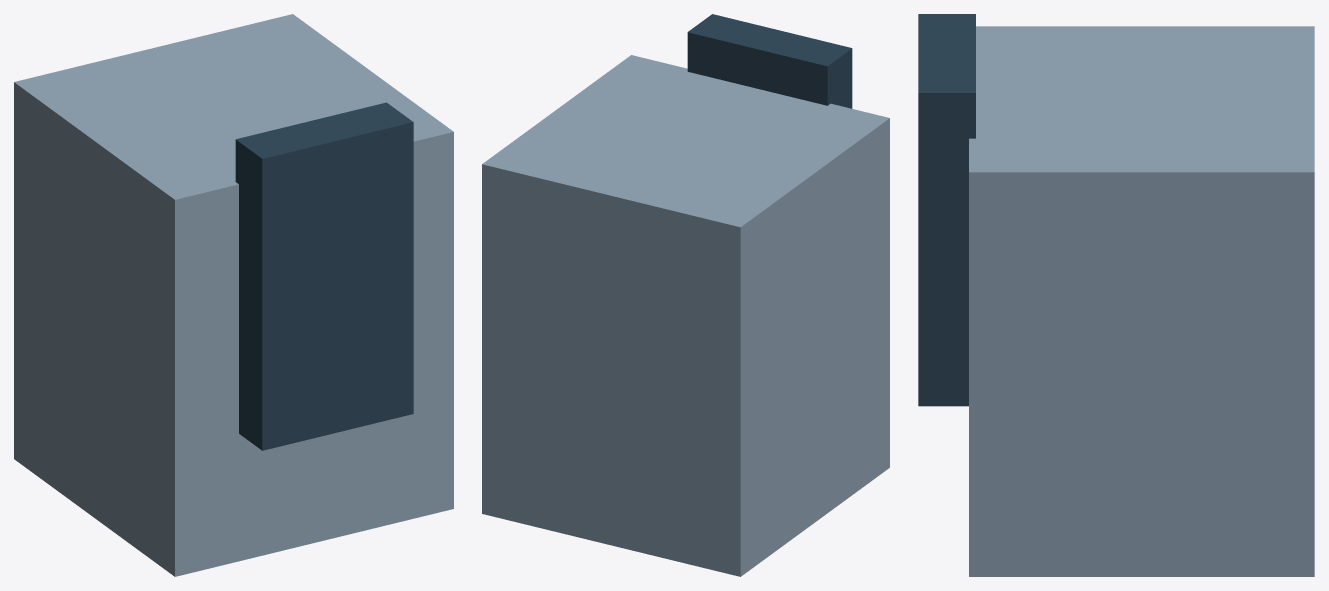
The model's file is legs-1.obj.
3 views of the same model, side by side, from view 1: azimuth 30°, elevation 25°; view 2: azimuth 150°, elevation 25°; view 3: azimuth 270°, elevation 25° (orthographic). The views are drawn at different scales.
Bounding box in the file's own units: 0.24 × 0.345 × 0.275.
